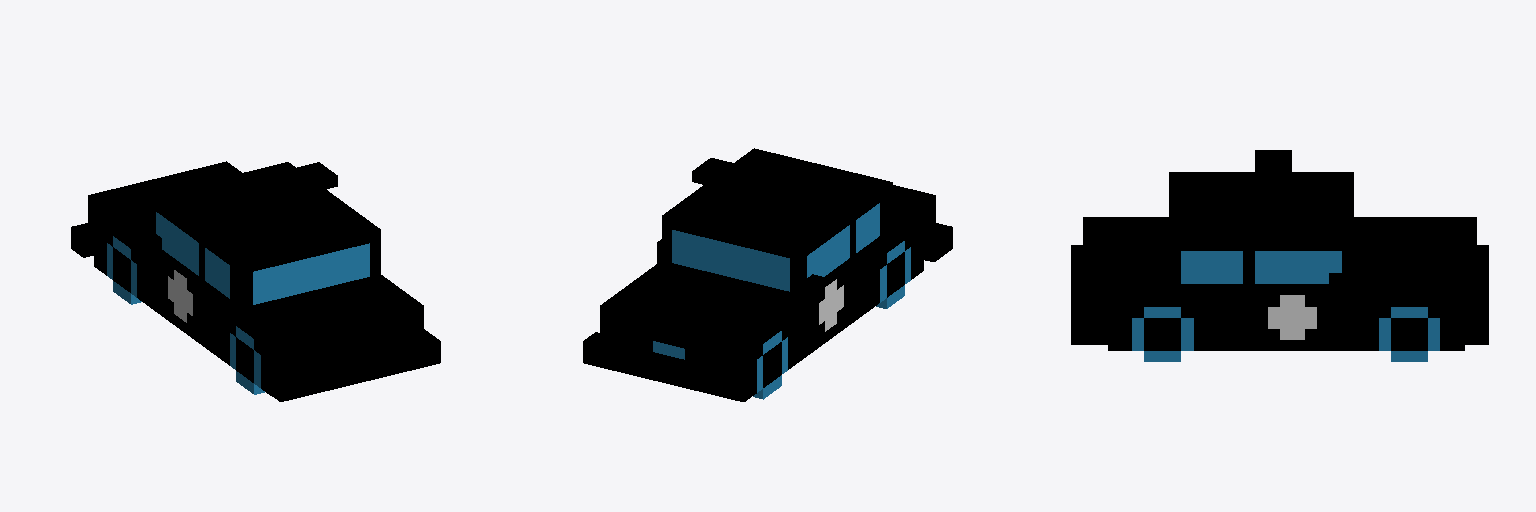
3 views of the same model, side by side, from view 1: azimuth 30°, elevation 25°; view 2: azimuth 150°, elevation 25°; view 3: azimuth 270°, elevation 25° (orthographic).
Visible parts, largest first — view 1: object 1; view 2: object 1; view 3: object 1.
Boxes of the visible parts, box(x1,y1,x2,y2) form: object 1: box(71, 161, 440, 401); object 1: box(583, 148, 952, 401); object 1: box(1071, 150, 1488, 361).
Bounding box in the file's own units: 1.5 × 1.3 × 3.4.
Materials: 1 (1 with a texture image).